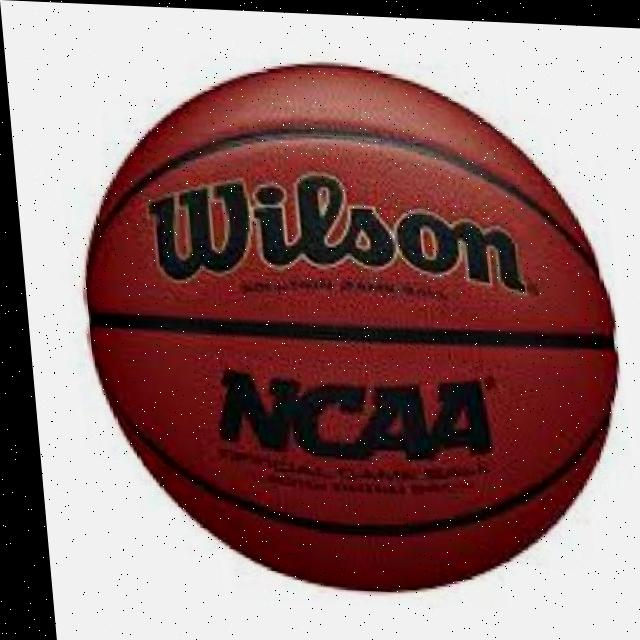Basketball: (66, 53, 640, 605)
